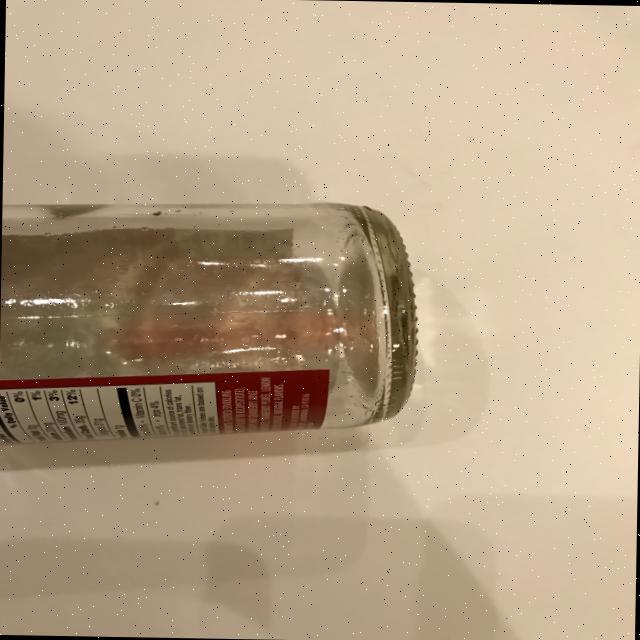glass: (0, 196, 421, 453)
